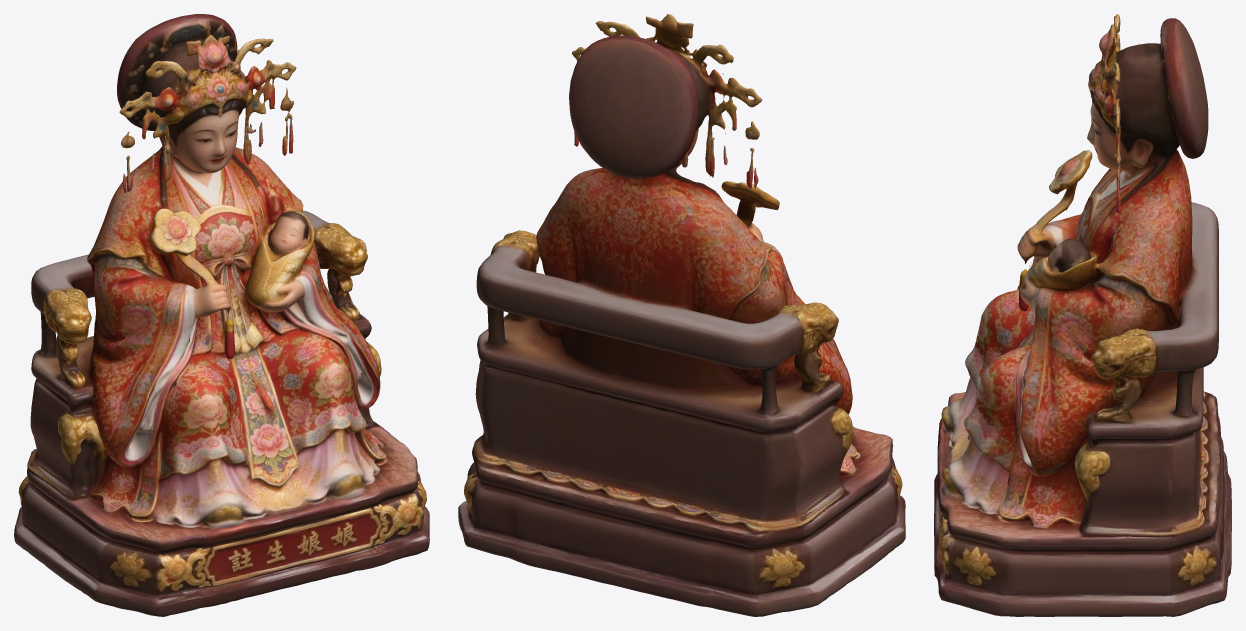
Rendered from zhusheng.glb.
The picture shows the model from 3 angles, left to right: view 1: azimuth 30°, elevation 25°; view 2: azimuth 150°, elevation 25°; view 3: azimuth 270°, elevation 25°; orthographic projection. The views are drawn at different scales.
Bounding box in the file's own units: 0.7148 × 0.9967 × 0.5285.
1 material, 1 textured.
